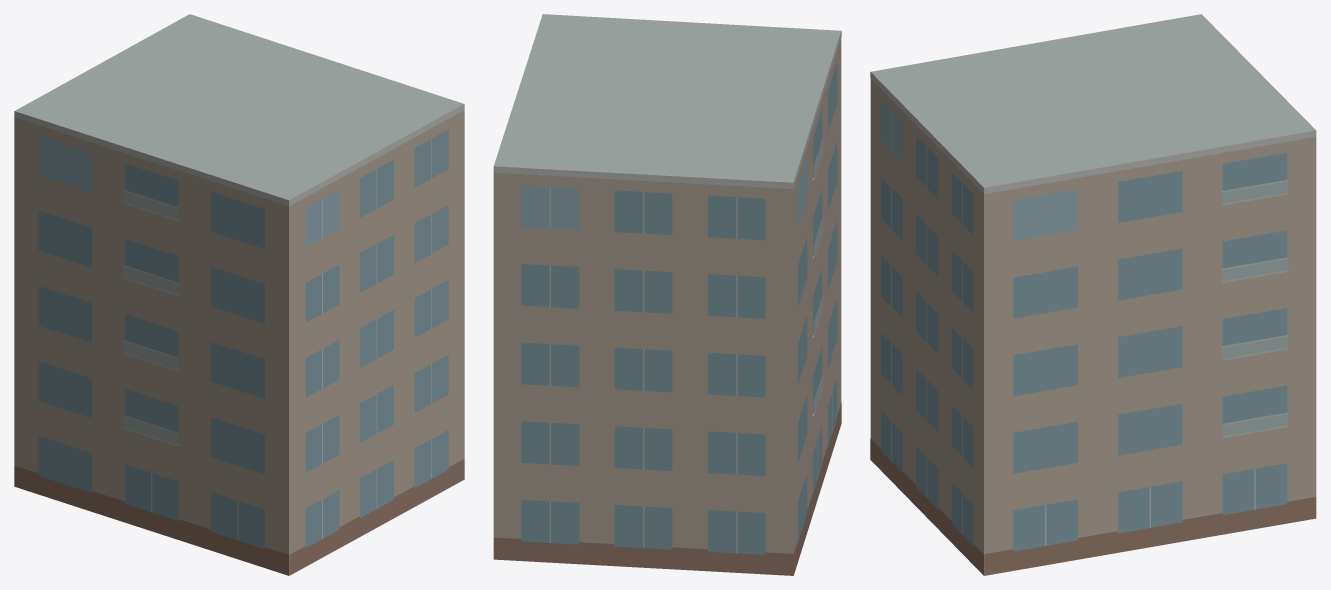
Rendered from survey-upis-33032330.glb.
The picture shows the model from 3 angles, left to right: view 1: azimuth 30°, elevation 25°; view 2: azimuth 150°, elevation 25°; view 3: azimuth 270°, elevation 25°; orthographic projection. The views are drawn at different scales.
Visible parts, largest first — view 1: survey-upis-33032330.tmp; view 2: survey-upis-33032330.tmp; view 3: survey-upis-33032330.tmp.
Part boxes in pixels (x1=…): survey-upis-33032330.tmp: x1=14, y1=14, x2=464, y2=575; survey-upis-33032330.tmp: x1=493, y1=14, x2=841, y2=575; survey-upis-33032330.tmp: x1=870, y1=14, x2=1316, y2=575.
Size of the model in its own units: 14.52 by 15.1 by 15.74.
